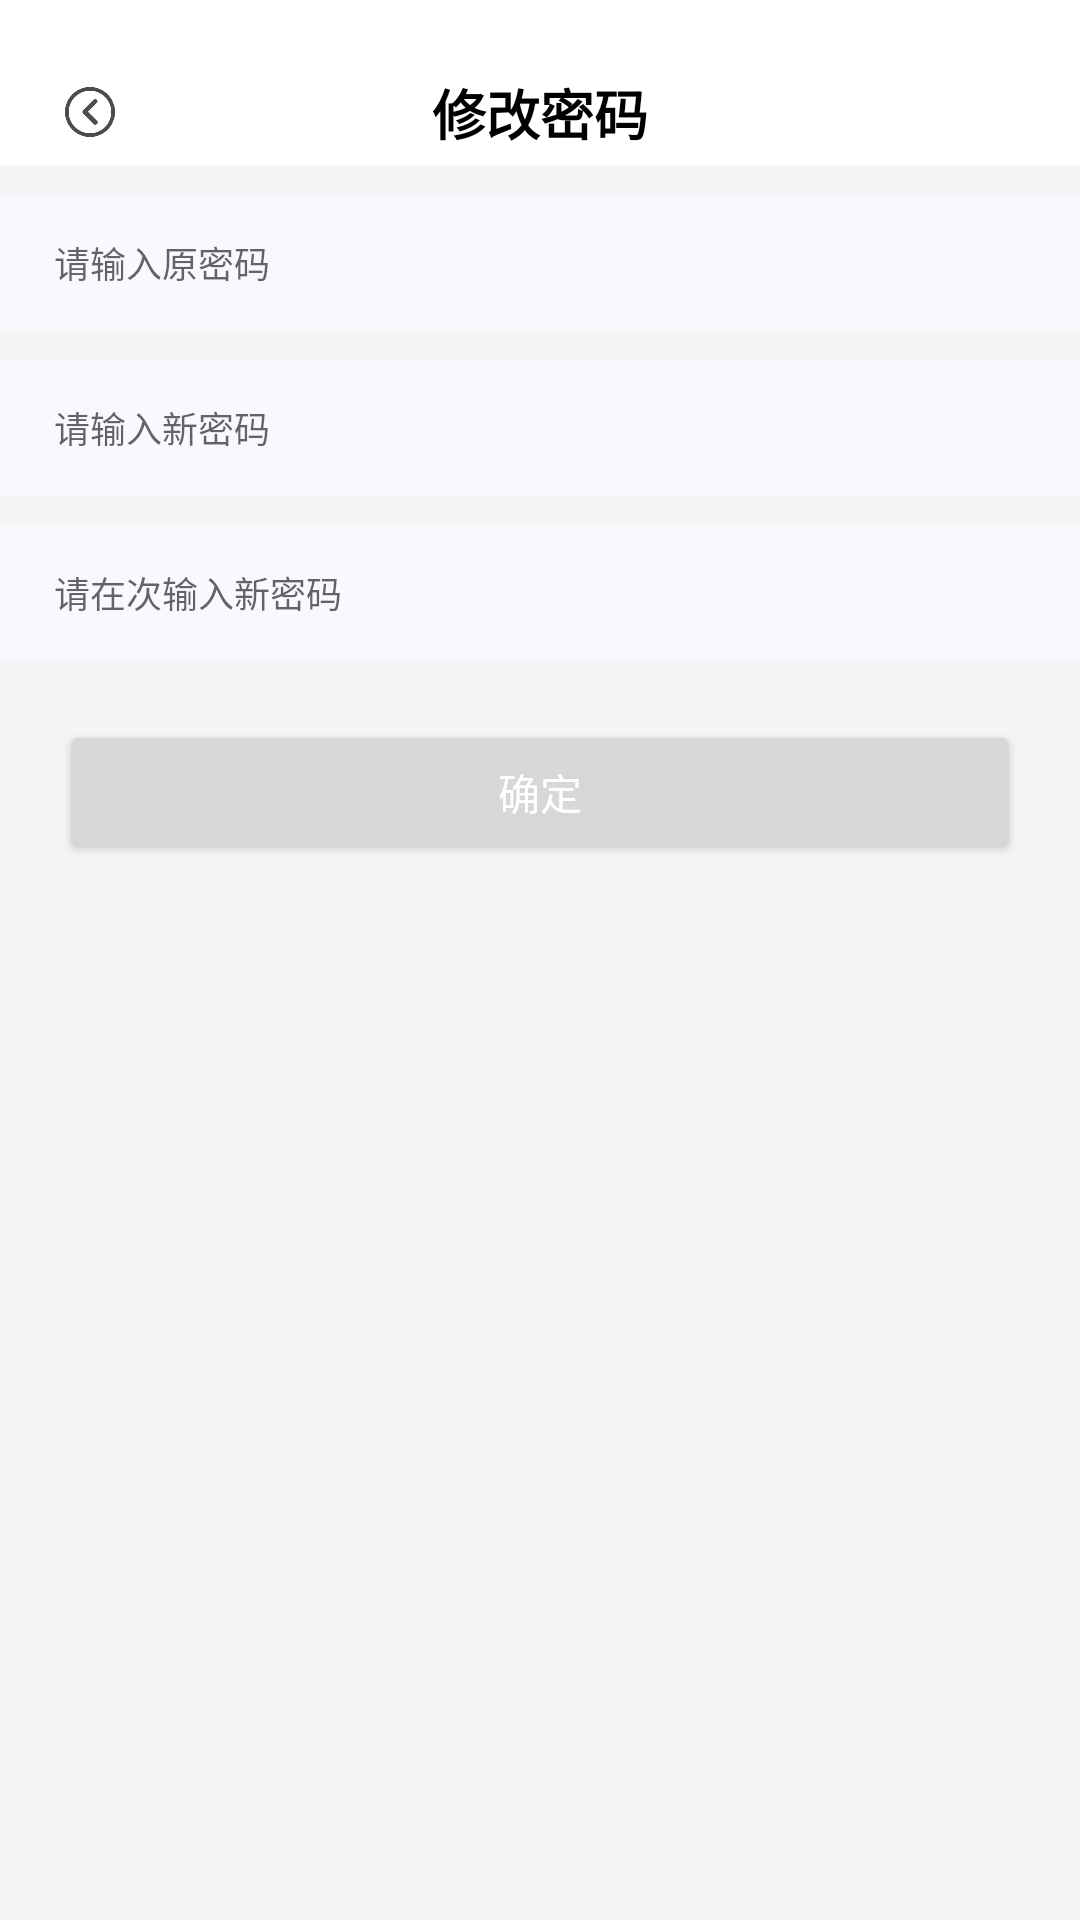

Named icons in this screenshot (1080×1920) and their bounding boxes, box(x1, y1, x2, y2):
fanhui: box(65, 87, 115, 137)
